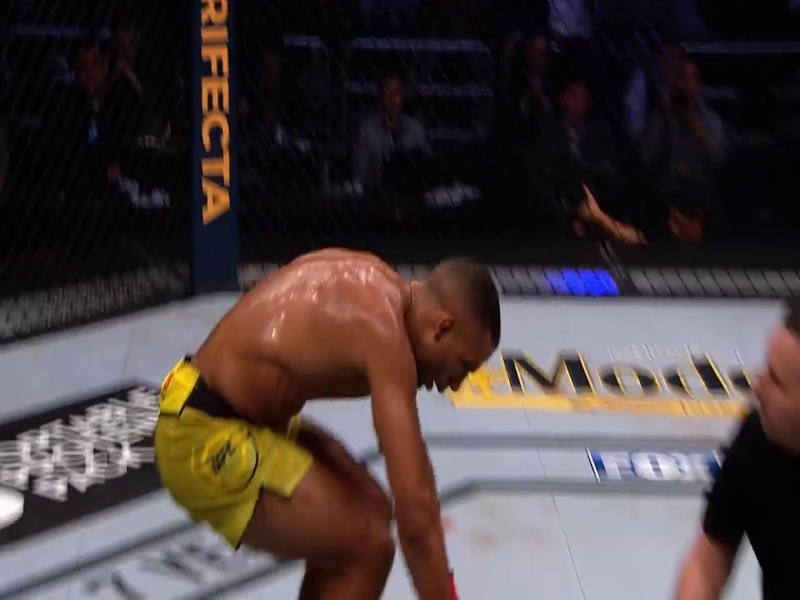fighter: (116, 226, 540, 600)
